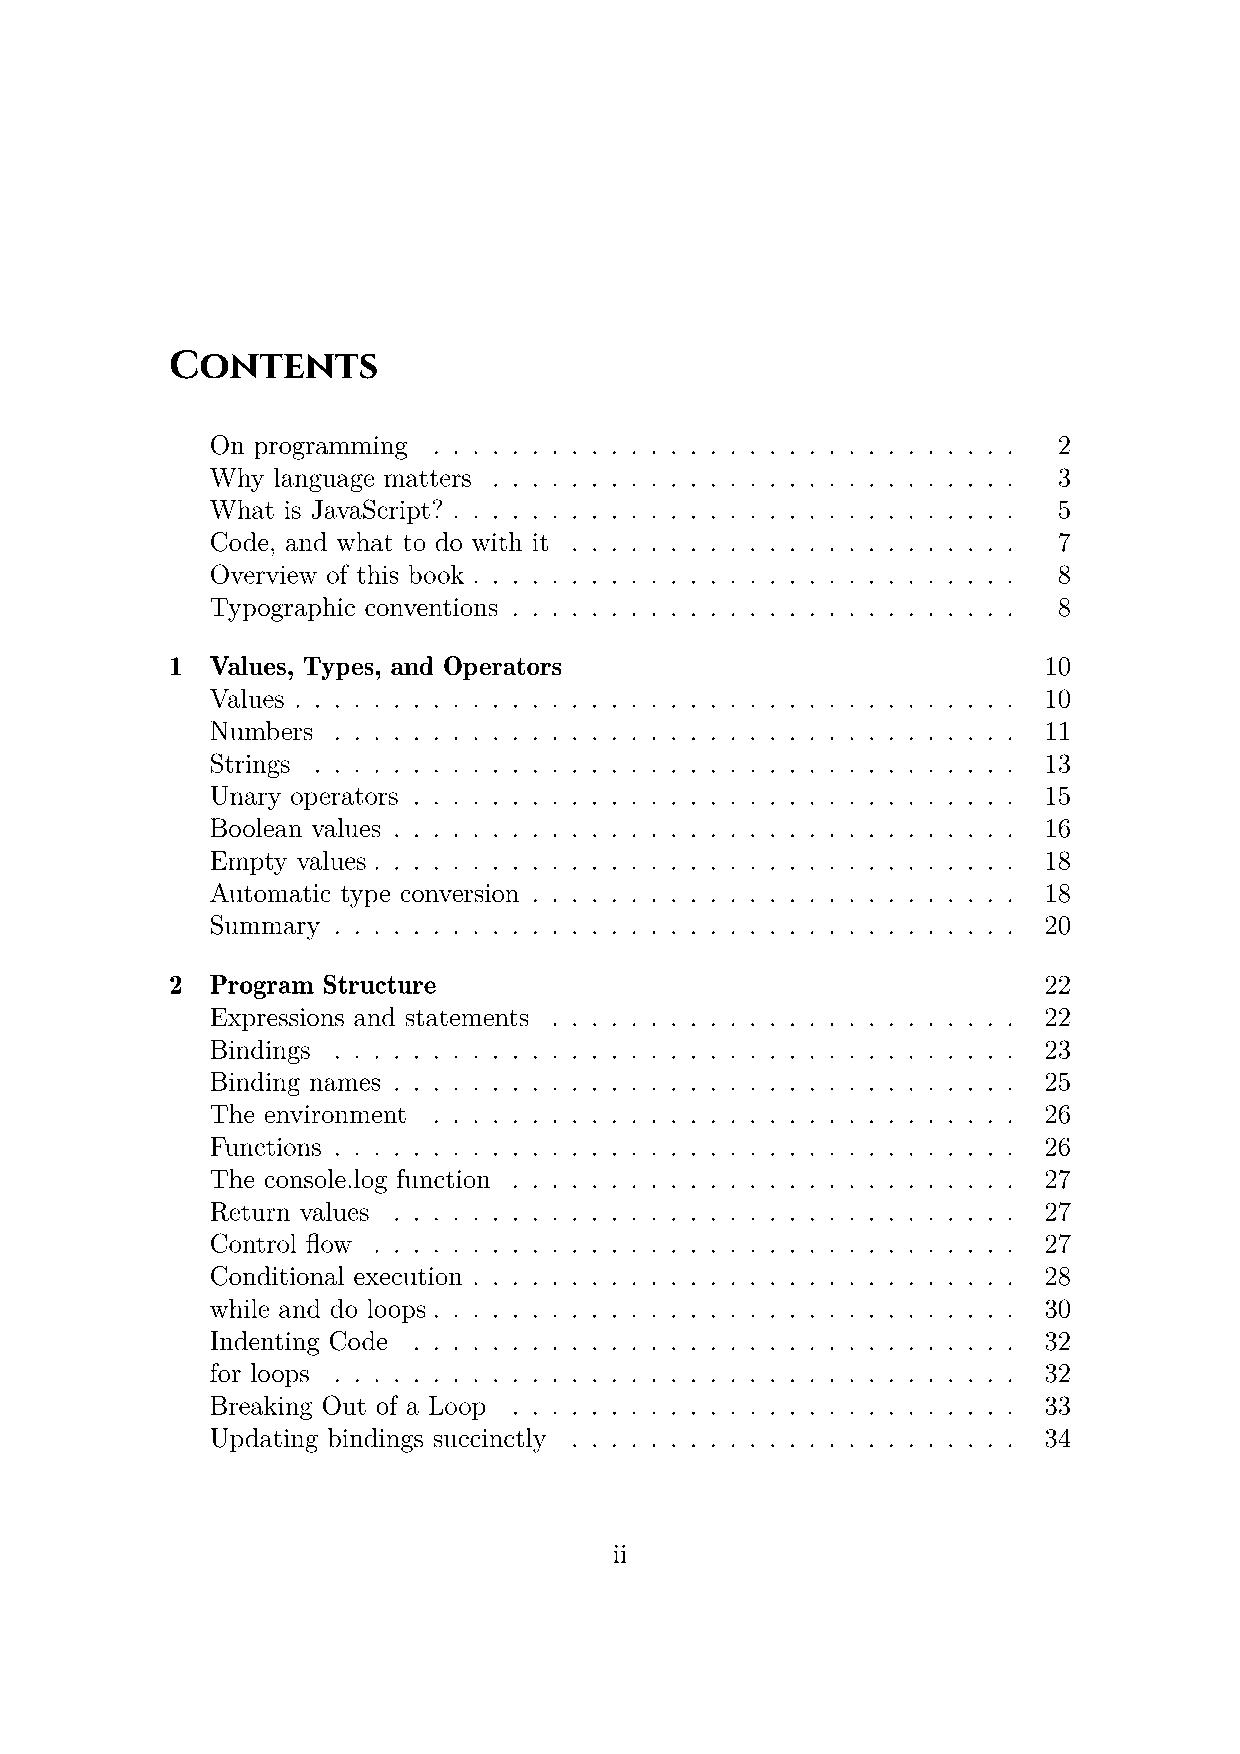TOC_chapter: (166, 654, 565, 680), (209, 1425, 546, 1453), (209, 880, 519, 909), (209, 595, 499, 623), (208, 1393, 484, 1423), (207, 1007, 529, 1031), (208, 531, 549, 554), (208, 1166, 488, 1193), (208, 464, 472, 493), (165, 972, 437, 998), (208, 497, 444, 526), (207, 560, 464, 586), (209, 429, 411, 460), (207, 1296, 427, 1325), (209, 1263, 463, 1287), (207, 782, 399, 811), (207, 1329, 388, 1355), (209, 1068, 378, 1096), (208, 1102, 407, 1125), (205, 815, 382, 840), (208, 847, 368, 875), (208, 1198, 370, 1223), (208, 1231, 352, 1253), (209, 911, 319, 941), (208, 1361, 310, 1388), (208, 1037, 311, 1063), (208, 1134, 322, 1157), (208, 718, 313, 742), (207, 750, 294, 778), (209, 684, 285, 709)
TOC_pagenumber: (1041, 1198, 1074, 1223), (1044, 1361, 1074, 1385), (1043, 1295, 1071, 1319), (1044, 1425, 1071, 1449), (1043, 973, 1071, 996), (1043, 1135, 1072, 1157), (1044, 1100, 1070, 1125), (1044, 784, 1071, 807), (1045, 815, 1072, 837), (1044, 1005, 1071, 1028), (1043, 914, 1071, 935), (1044, 1232, 1072, 1253), (1045, 686, 1070, 710), (1045, 1037, 1070, 1062), (1045, 1070, 1070, 1094), (1045, 654, 1071, 676), (1045, 750, 1071, 773), (1045, 848, 1071, 871), (1045, 882, 1071, 905), (1044, 1264, 1070, 1287), (1045, 1329, 1071, 1351), (1044, 1393, 1070, 1414), (1045, 719, 1070, 741), (1044, 1168, 1070, 1188), (1055, 432, 1071, 455), (1055, 464, 1070, 488), (1056, 499, 1071, 521), (1056, 564, 1071, 585), (1057, 595, 1070, 619), (1057, 531, 1070, 552)
chapter: (166, 346, 378, 381)
content_pagenumber: (608, 1539, 632, 1566)
